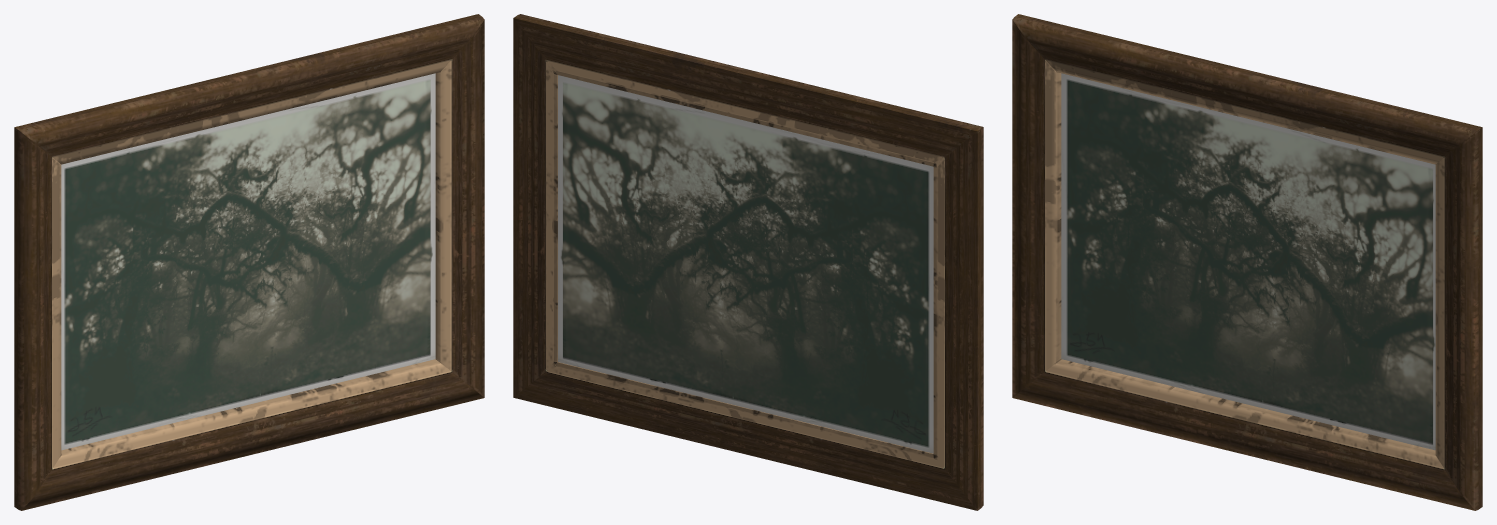
The model's file is Picture_11_Large_Framed.FBX.
3 renders of one model, left to right at view 1: azimuth 30°, elevation 25°; view 2: azimuth 150°, elevation 25°; view 3: azimuth 330°, elevation 25°, orthographic.
Visible parts, largest first — view 1: Picture_11_Large_Framed; view 2: Picture_11_Large_Framed; view 3: Picture_11_Large_Framed.
Boxes of the visible parts, x1,y1,x2,y2 form: Picture_11_Large_Framed: (14,14,484,510); Picture_11_Large_Framed: (513,14,983,510); Picture_11_Large_Framed: (1012,14,1482,510).
Bounding box in the file's own units: 113 × 88.09 × 3.18.
